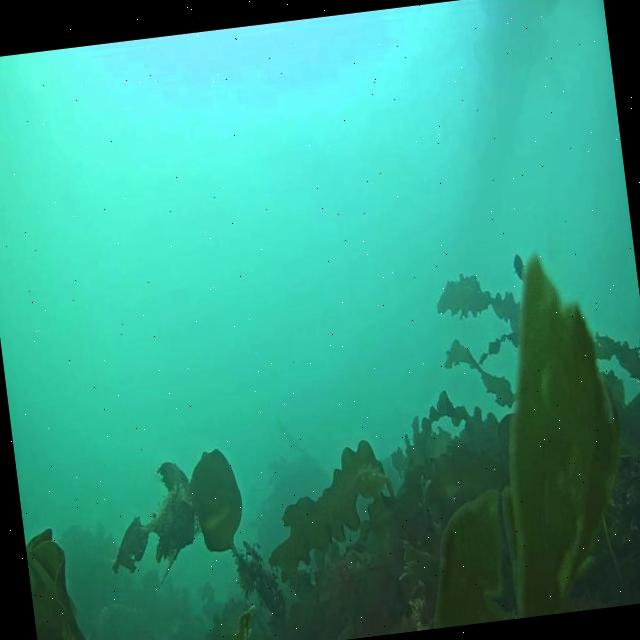fish: (509, 248, 528, 282)
